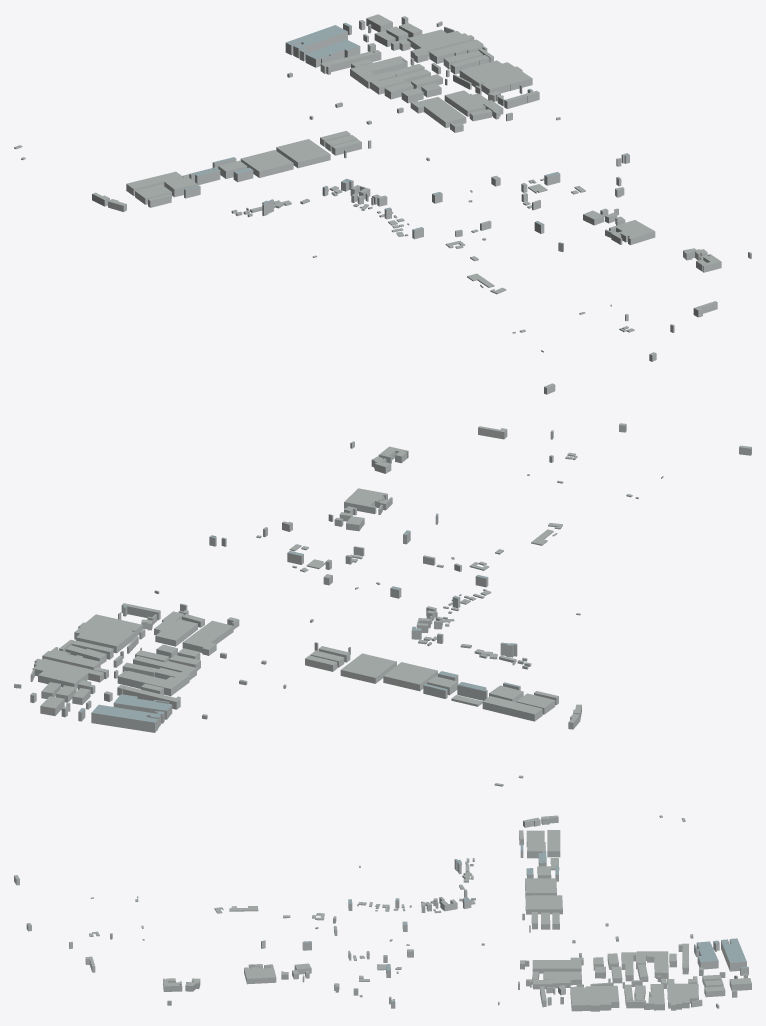
Rendered from far.glb.
3 views of the same model, one above another, from view 1: azimuth 30°, elevation 25°; view 2: azimuth 150°, elevation 25°; view 3: azimuth 270°, elevation 25° (orthographic). The views are drawn at different scales.
Size of the model in its own units: 1084 by 25.3 by 1730.
